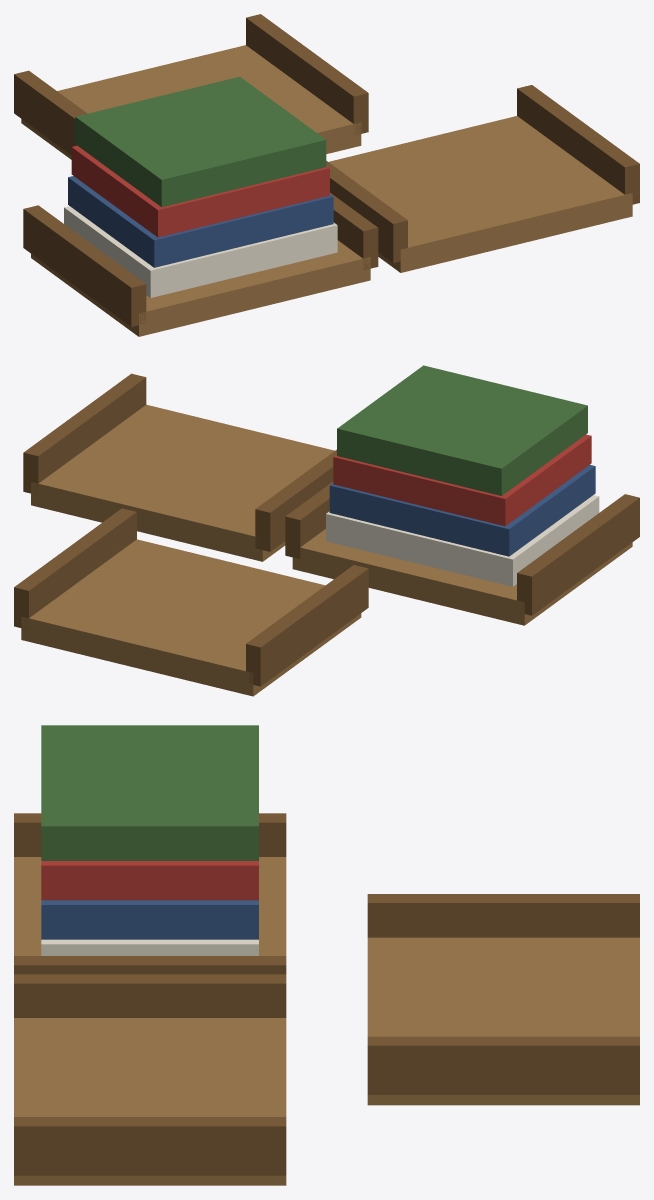
Rendered from pile_clothes_1.glb.
3 renders of one model, top to bottom at view 1: azimuth 30°, elevation 25°; view 2: azimuth 150°, elevation 25°; view 3: azimuth 270°, elevation 25°, orthographic. The views are drawn at different scales.
Parts seen in each view (by area): view 1: pile_clothes_1; view 2: pile_clothes_1; view 3: pile_clothes_1.
Part boxes in pixels (left/top/right/bottom): pile_clothes_1: left=14, top=14, right=639, bottom=336; pile_clothes_1: left=14, top=365, right=639, bottom=696; pile_clothes_1: left=14, top=725, right=639, bottom=1185.
Bounding box in the file's own units: 1.36 × 0.36 × 1.15.
